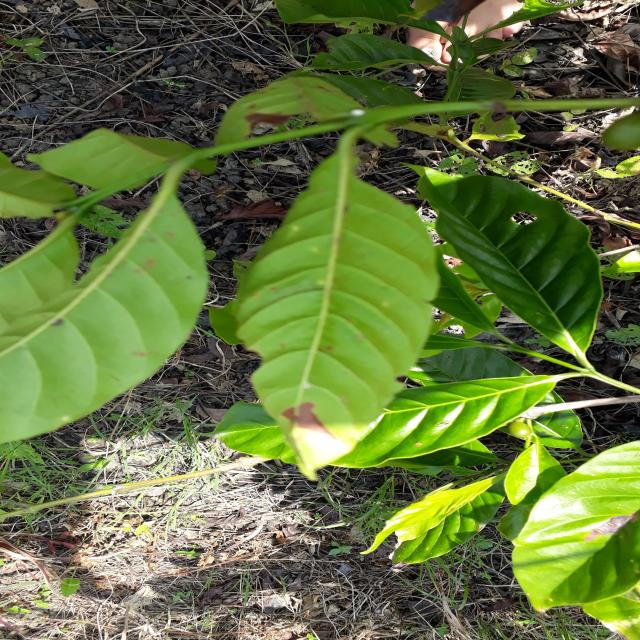Plaga-AranaRoja: (209, 153, 441, 482)
